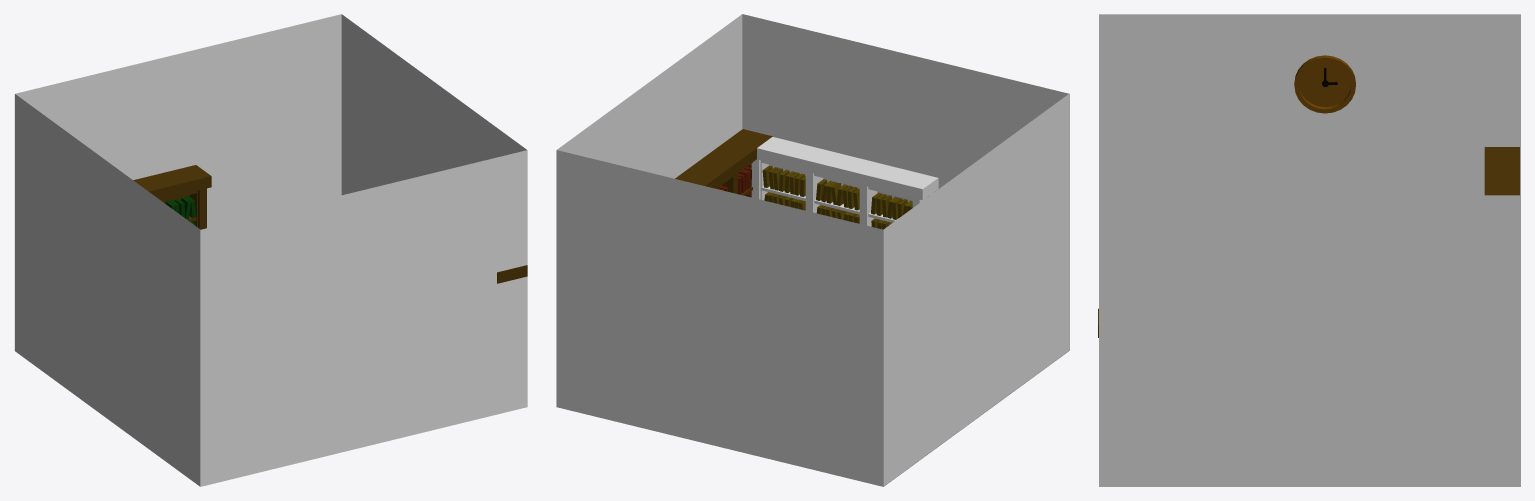
The model's file is ruanganfix.fbx.
The picture shows the model from 3 angles, left to right: view 1: azimuth 30°, elevation 25°; view 2: azimuth 150°, elevation 25°; view 3: azimuth 270°, elevation 25°; orthographic projection. The views are drawn at different scales.
Visible parts, largest first — view 1: Cube.005, Cube.007; view 2: Cube.005, Cube.001, Cube.015, Cube.002; view 3: Cube.005, Cylinder.002, Cube.007.
Part boxes in pixels (x1,y1,x2,y2): Cube.005: (14, 14, 527, 486); Cube.007: (133, 165, 211, 229); Cube.005: (556, 14, 1069, 486); Cube.001: (751, 137, 938, 226); Cube.015: (762, 165, 912, 229); Cube.002: (675, 129, 772, 195); Cube.005: (1099, 14, 1520, 486); Cylinder.002: (1294, 55, 1355, 113); Cube.007: (1484, 147, 1519, 195).
Size of the model in its own units: 1390 by 1049 by 1372.
14 materials, 3 textured.
